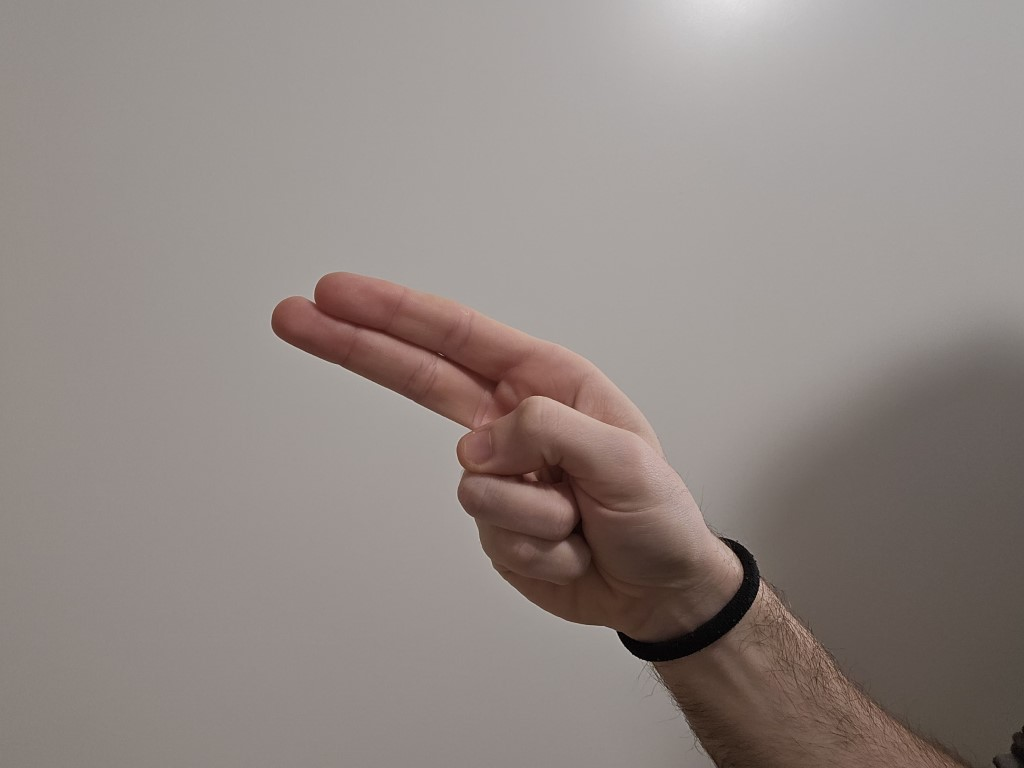h: (264, 266, 728, 638)
